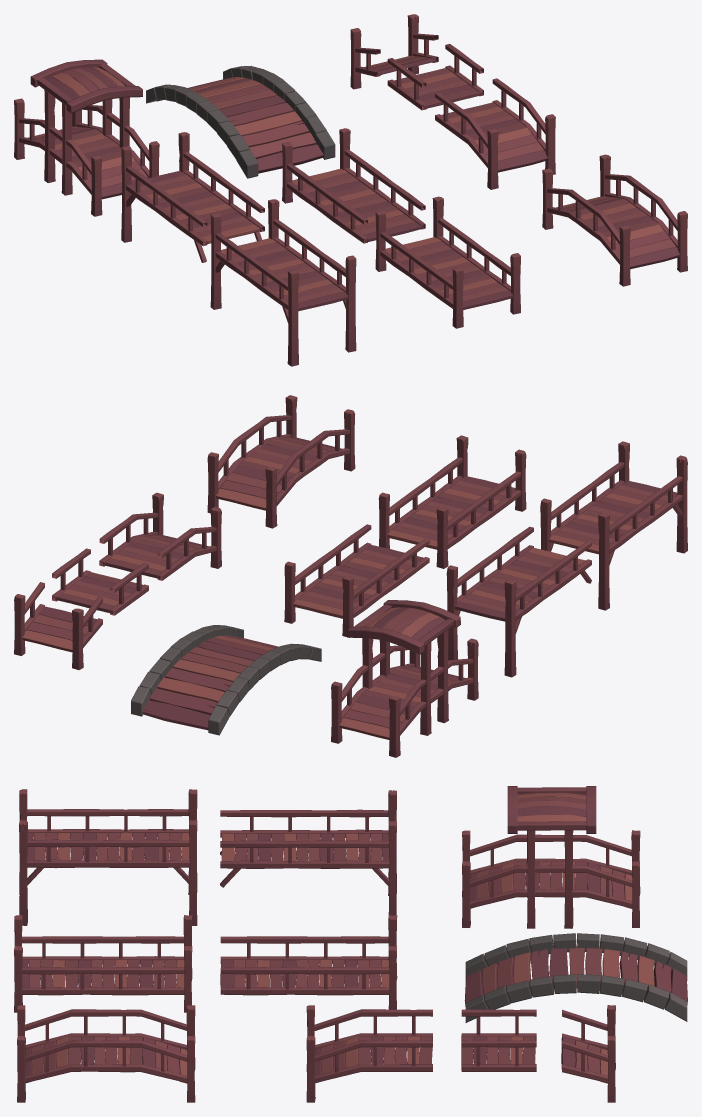
The model's file is Wooden_Bridges_001.fbx.
The picture shows the model from 3 angles, top to bottom: view 1: azimuth 30°, elevation 25°; view 2: azimuth 150°, elevation 25°; view 3: azimuth 270°, elevation 25°; orthographic projection. The views are drawn at different scales.
Visible parts, largest first — view 1: Cube.008, Cube, Cube.006, Cube.002, Cube.001, Cube.007, Cube.012, Cube.013, Cube.016, Cube.015; view 2: Cube.008, Cube, Cube.006, Cube.002, Cube.001, Cube.007, Cube.012, Cube.013, Cube.015, Cube.016; view 3: Cube.008, Cube, Cube.006, Cube.002, Cube.001, Cube.007, Cube.012, Cube.013, Cube.016, Cube.015.
Part boxes in pixels (x1,y1,x2,y2): Cube.008: (14,59,159,216); Cube: (146,65,335,178); Cube.006: (210,199,356,366); Cube.002: (542,154,687,286); Cube.001: (375,196,520,328); Cube.007: (121,132,264,262); Cube.012: (282,128,425,243); Cube.013: (435,78,555,189); Cube.016: (387,44,483,110); Cube.015: (350,14,438,89); Cube.008: (331,600,478,757); Cube: (131,625,321,735); Cube.006: (540,441,687,610); Cube.002: (207,395,355,528); Cube.001: (378,435,526,568); Cube.007: (446,526,591,677); Cube.012: (284,524,429,637); Cube.013: (99,492,221,580); Cube.015: (14,582,102,669); Cube.016: (52,548,148,615); Cube.008: (462,786,640,928); Cube: (464,933,687,1022); Cube.006: (19,789,197,925); Cube.002: (17,1005,195,1102); Cube.001: (14,915,192,1012); Cube.007: (220,790,396,915); Cube.012: (220,915,397,1009); Cube.013: (306,1005,432,1102); Cube.016: (461,1009,536,1071); Cube.015: (561,1005,615,1102).
Size of the model in its own units: 3443 by 850 by 4628.
